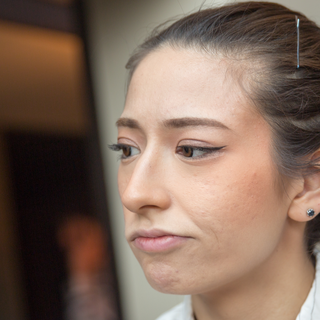eye: (172, 139, 225, 164), (107, 138, 145, 163)
